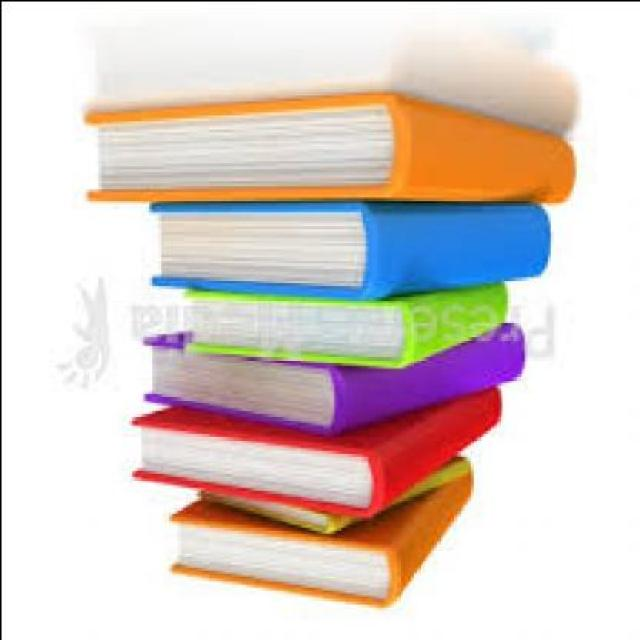PAPER: (85, 94, 578, 204), (134, 390, 503, 521), (145, 324, 526, 441), (171, 467, 472, 608), (152, 202, 552, 302), (182, 284, 508, 370), (198, 464, 476, 534)
